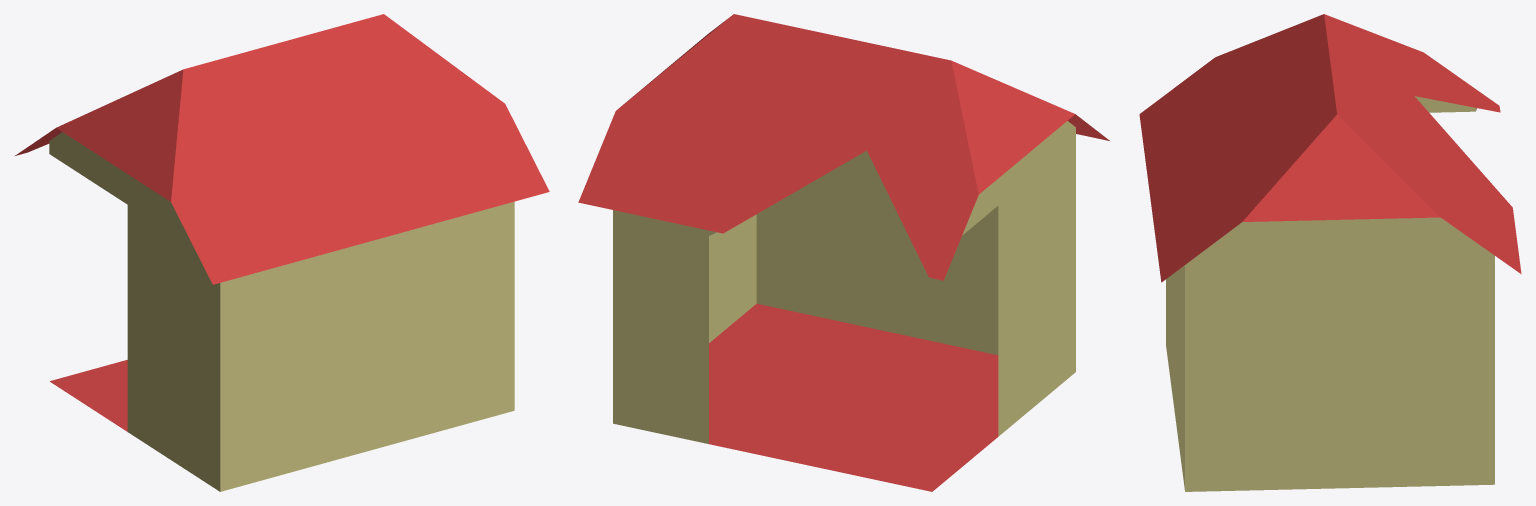
3 views of the same model, side by side, from view 1: azimuth 30°, elevation 25°; view 2: azimuth 150°, elevation 25°; view 3: azimuth 270°, elevation 25° (orthographic). The views are drawn at different scales.
Size of the model in its own units: 12.5 by 11.4 by 11.57.
